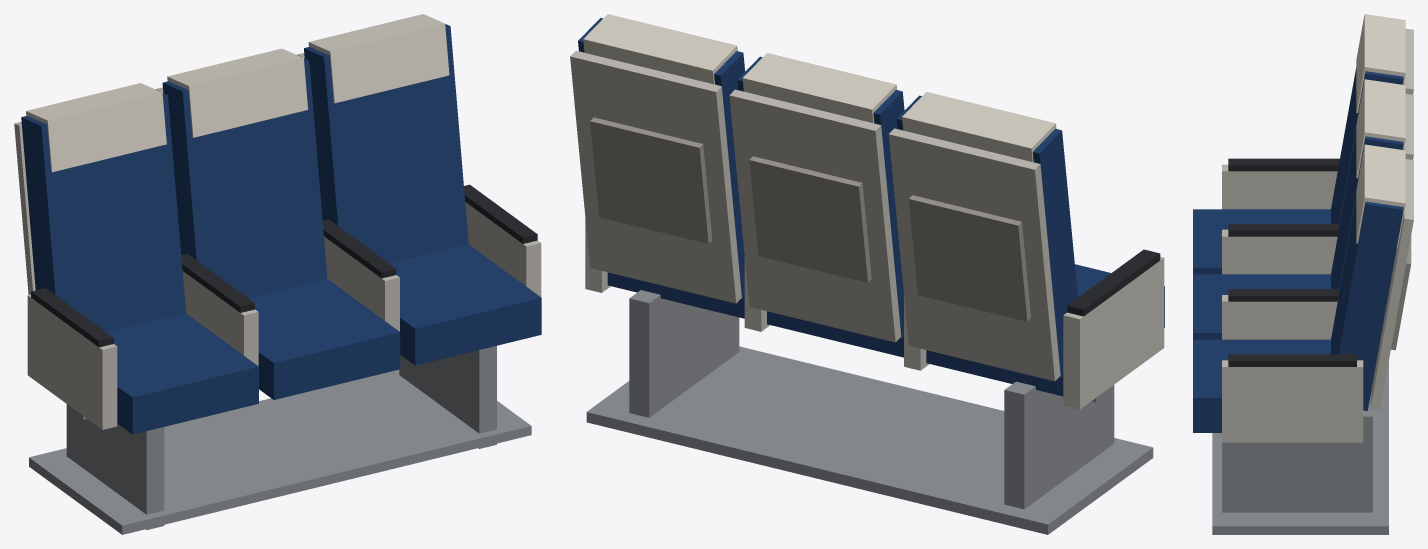
Rendered from ac_economy_triple.glb.
The picture shows the model from 3 angles, left to right: view 1: azimuth 30°, elevation 25°; view 2: azimuth 150°, elevation 25°; view 3: azimuth 270°, elevation 25°; orthographic projection. The views are drawn at different scales.
Parts seen in each view (by area): view 1: ac_economy_triple; view 2: ac_economy_triple; view 3: ac_economy_triple.
Boxes of the visible parts, left/top/right/bottom form: ac_economy_triple: left=14, top=14, right=541, bottom=534; ac_economy_triple: left=570, top=14, right=1164, bottom=534; ac_economy_triple: left=1193, top=14, right=1413, bottom=534.
Bounding box in the file's own units: 1.49 × 1.17 × 0.6874.
